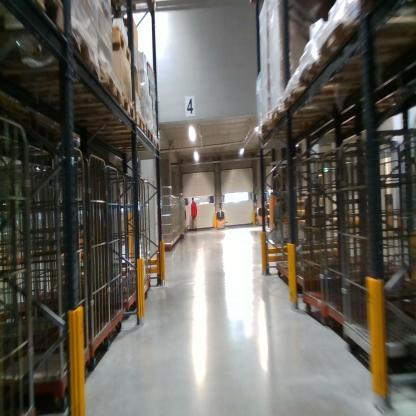pallets: (252, 19, 352, 142), (67, 28, 163, 152)
